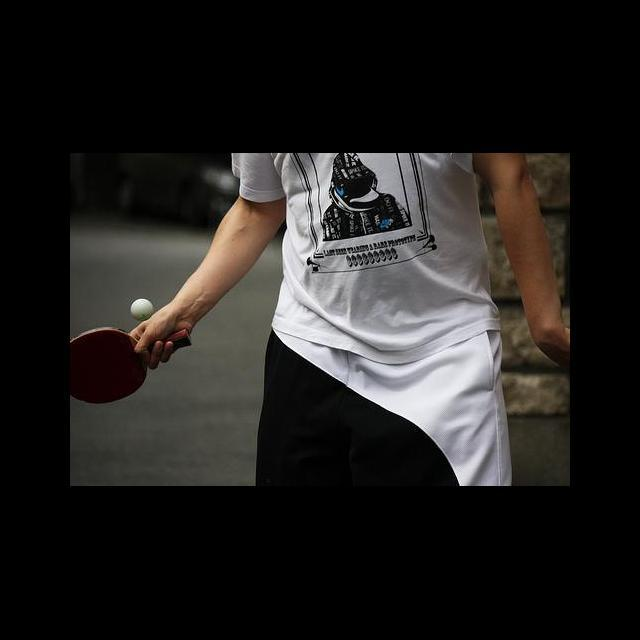ping-pong-ball: (130, 296, 154, 322)
